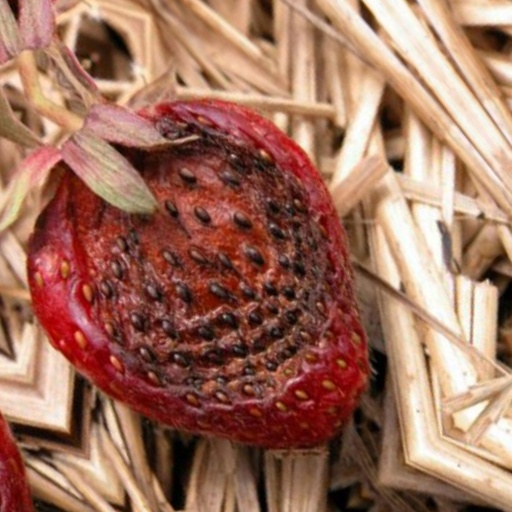Anthracnose Fruit Rot: (69, 71, 345, 379)
